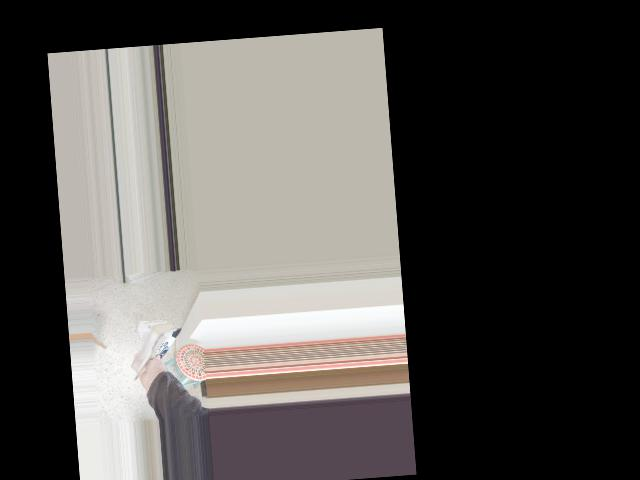cheese: (121, 312, 194, 391)
